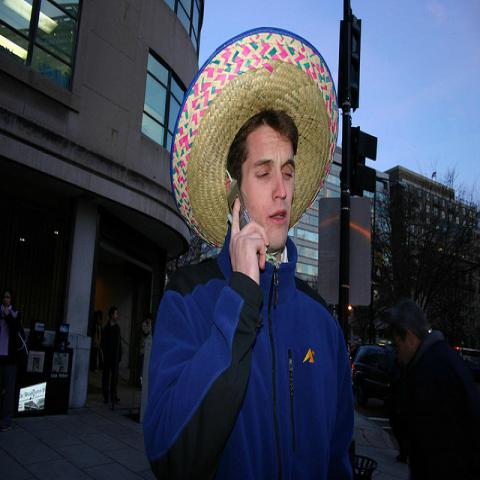car: (352, 346, 392, 404), (470, 356, 480, 374)
